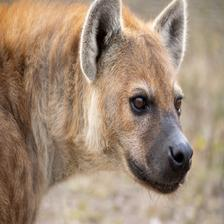hyena: (0, 0, 214, 221)
